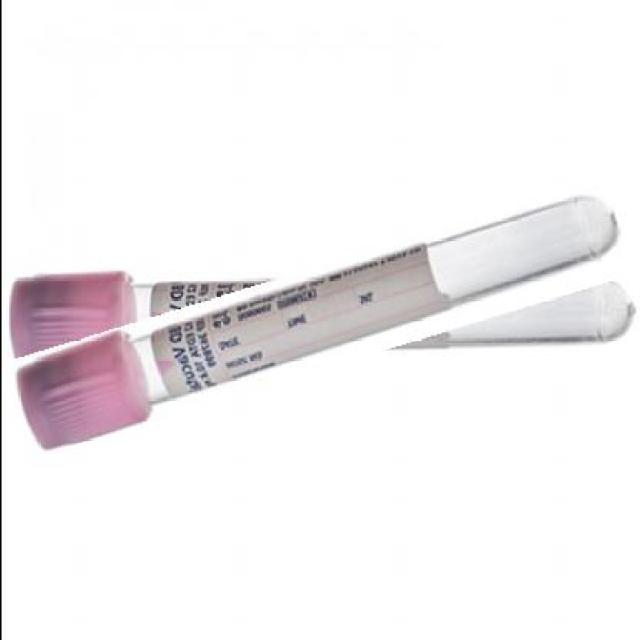Experimental-tube: (6, 225, 631, 412)
